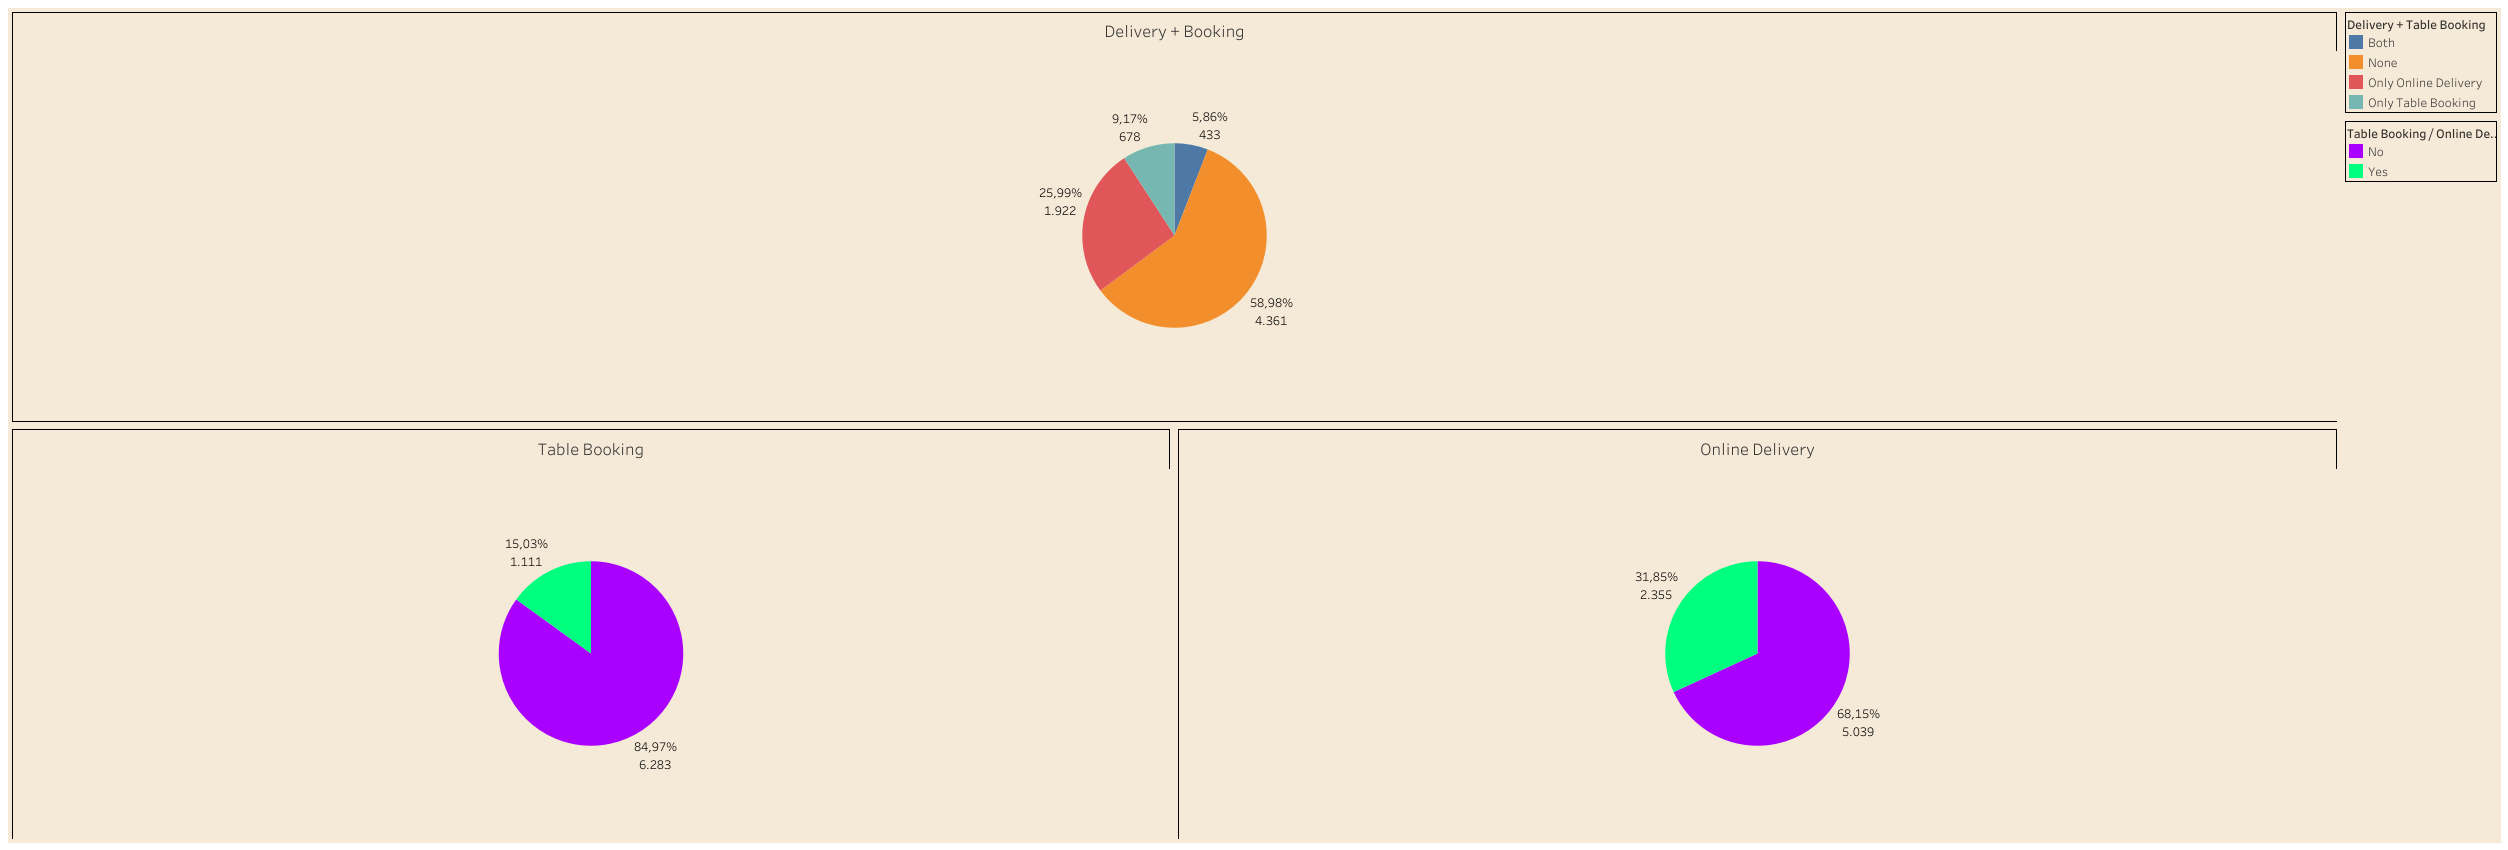

This screenshot's page, from the dashboard's own definition file:
{"tool":"tableau","page":{"name":"Dashboard 3","canvas":[1000,1000],"units":"permille","ordinal":2},"visuals":[{"type":"worksheet","title":"Both","mark":"Pie","box":[6.2,11.6,862.5,488.4]},{"type":"legend","title":"Both","param":"[federated.1qaar8u1x2t8921dy8yo61bezklz].[none:Calculation_381680088120553473:nk","box":[868.8,11.6,125,156.5]},{"type":"legend","title":"Table booking","param":"[federated.1qaar8u1x2t8921dy8yo61bezklz].[none:Has Table booking:nk]","box":[868.8,168.1,125,98.5]},{"type":"worksheet","title":"Table booking","mark":"Pie","box":[6.2,500,431.2,488.4]},{"type":"worksheet","title":"Delivery","mark":"Pie","box":[437.5,500,431.3,488.4]}]}

Visuals, with their boxes on the dashboard's canvas, which has no fixed pixel size, in thousandths of its width and height (x1, y1, x2, y2). These are canvas units, not pixel positions in the 2508x850 screenshot, which may show the page scaled, cropped or inside an application window:
"Both" worksheet (Pie marks): locate(6, 12, 869, 500)
"Both" legend: locate(869, 12, 994, 168)
"Table booking" legend: locate(869, 168, 994, 267)
"Table booking" worksheet (Pie marks): locate(6, 500, 437, 988)
"Delivery" worksheet (Pie marks): locate(438, 500, 869, 988)
